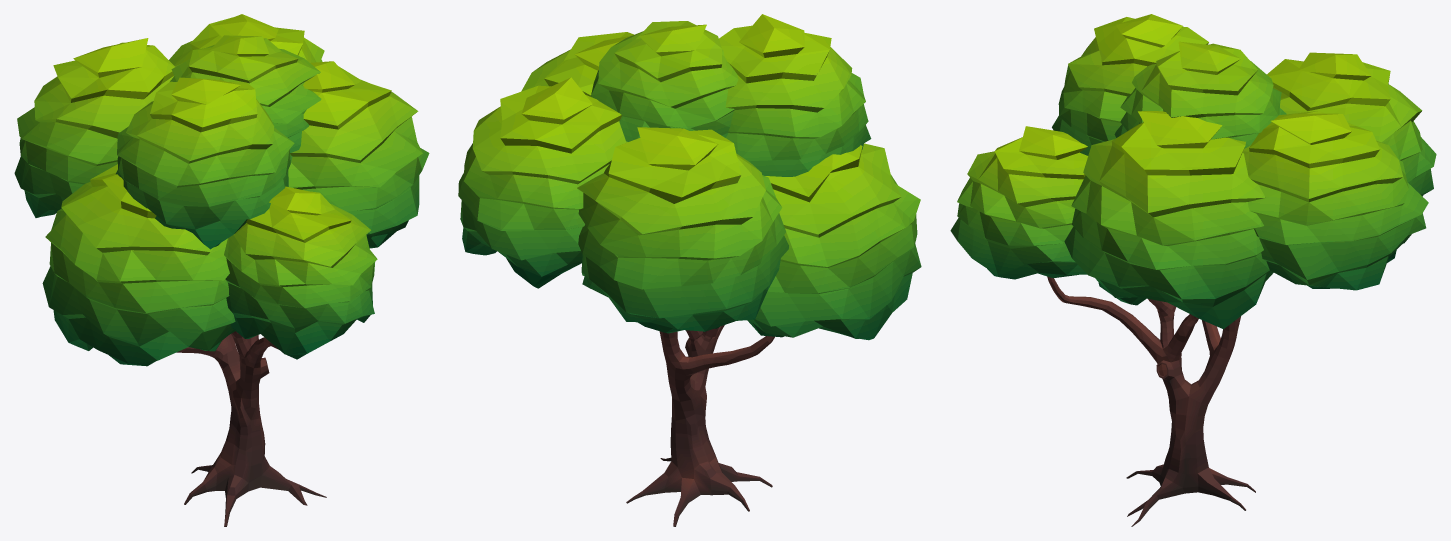
Rendered from tree_savannah01_lush_mod_01.fbx.
The picture shows the model from 3 angles, left to right: view 1: azimuth 30°, elevation 25°; view 2: azimuth 150°, elevation 25°; view 3: azimuth 270°, elevation 25°; orthographic projection. The views are drawn at different scales.
Parts seen in each view (by area): view 1: leaves01, tree01; view 2: leaves01, tree01; view 3: leaves01, tree01.
Part boxes in pixels (box(x1,y1,x2,y2)): leaves01: box(14, 14, 429, 366); tree01: box(176, 331, 326, 526); leaves01: box(458, 14, 921, 340); tree01: box(626, 325, 774, 526); leaves01: box(950, 14, 1436, 329); tree01: box(1047, 276, 1255, 526).
Size of the model in its own units: 6.65 by 7.7 by 7.97.
